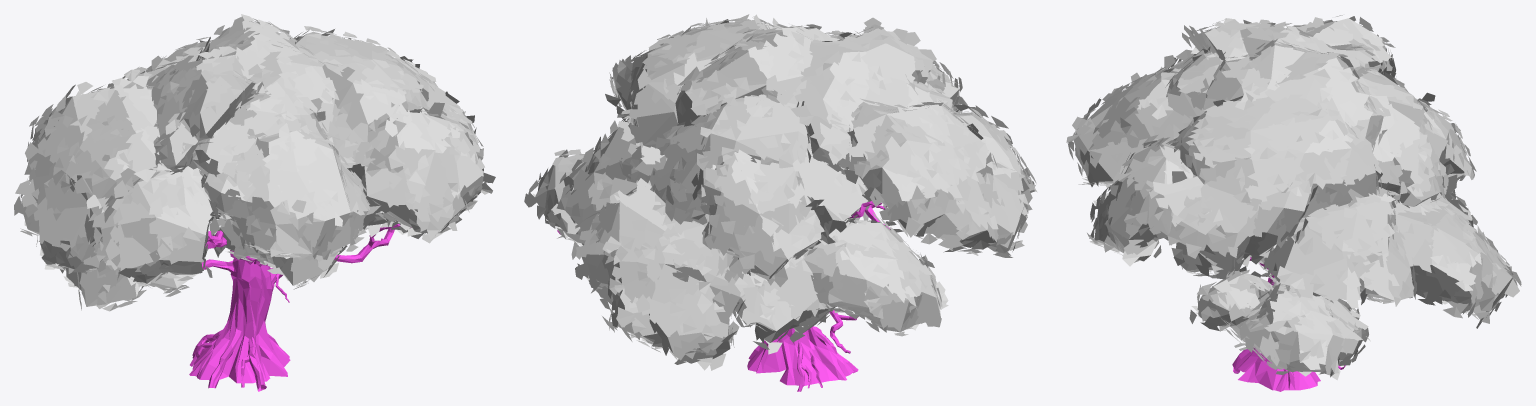
File: SM_Tree_Oak_Big_Fantasy.fbx
The picture shows the model from 3 angles, left to right: view 1: azimuth 30°, elevation 25°; view 2: azimuth 150°, elevation 25°; view 3: azimuth 270°, elevation 25°; orthographic projection.
Parts seen in each view (by area): view 1: SM_Tree_Oak_Big_Fantasy; view 2: SM_Tree_Oak_Big_Fantasy; view 3: SM_Tree_Oak_Big_Fantasy.
Part boxes in pixels (x1=…): SM_Tree_Oak_Big_Fantasy: x1=14, y1=14, x2=495, y2=391; SM_Tree_Oak_Big_Fantasy: x1=524, y1=14, x2=1037, y2=391; SM_Tree_Oak_Big_Fantasy: x1=1066, y1=15, x2=1521, y2=391.
Bounding box in the file's own units: 24.74 × 17.08 × 20.62.
